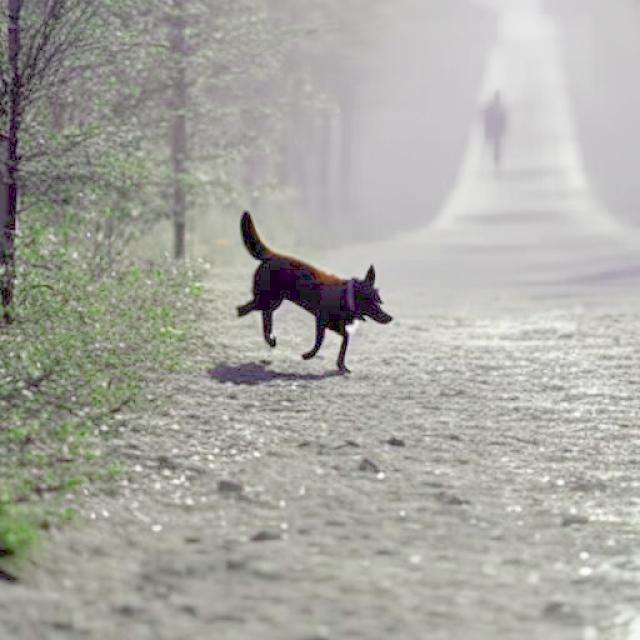Dog: (237, 210, 396, 373)
